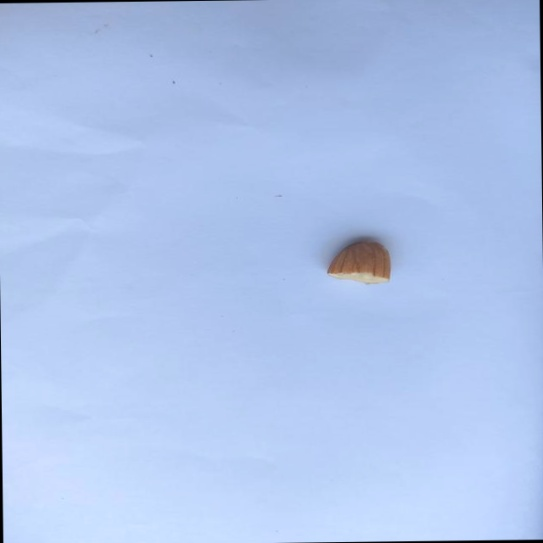grade4: (319, 235, 397, 289)
